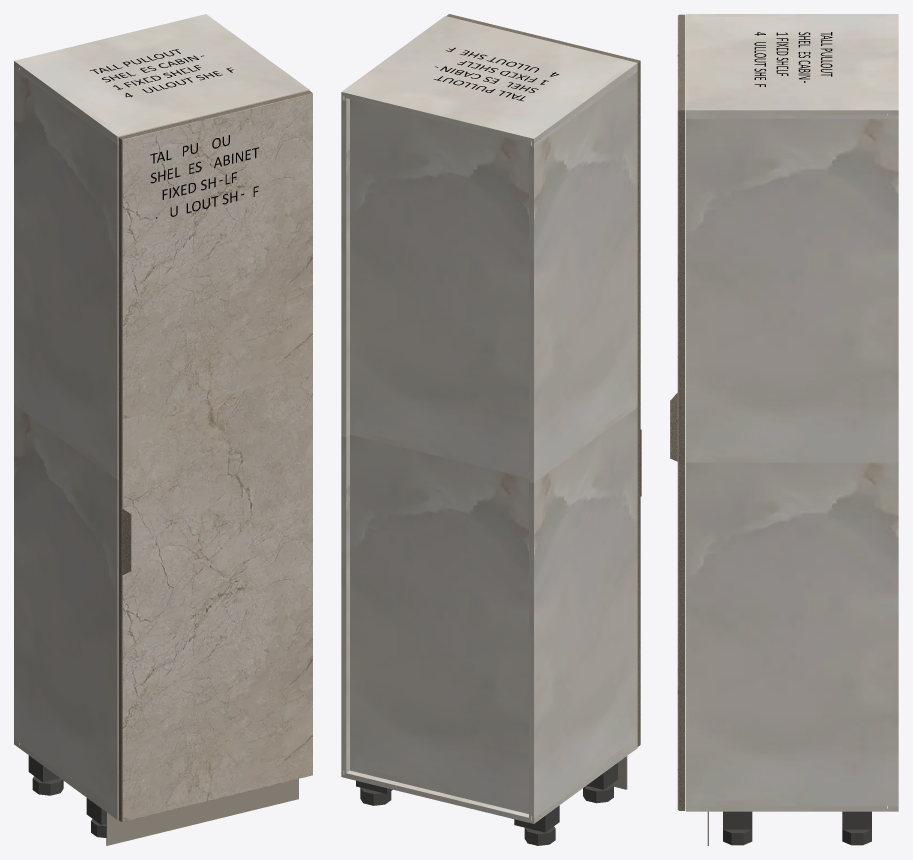
The model's file is TALL PULLOUT SHELVES CABINET 1 FIXED SHELF 4 PULLOUT SHELF (H2040xW600xD560) TC4PS1FS1HS_RH.glb.
3 views of the same model, side by side, from view 1: azimuth 30°, elevation 25°; view 2: azimuth 150°, elevation 25°; view 3: azimuth 270°, elevation 25° (orthographic). The views are drawn at different scales.
Size of what is drawn, in the model's own units: 0.6 by 2.15 by 0.6011.
9 materials, 3 textured.
